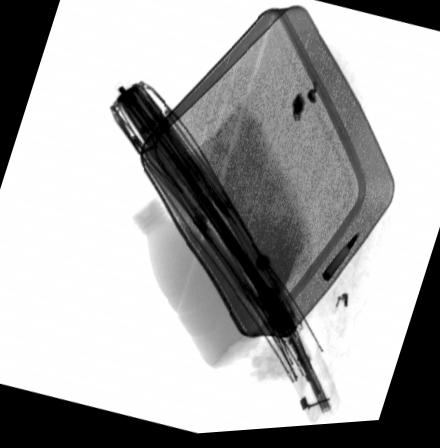Bullet: (319, 236, 358, 287)
